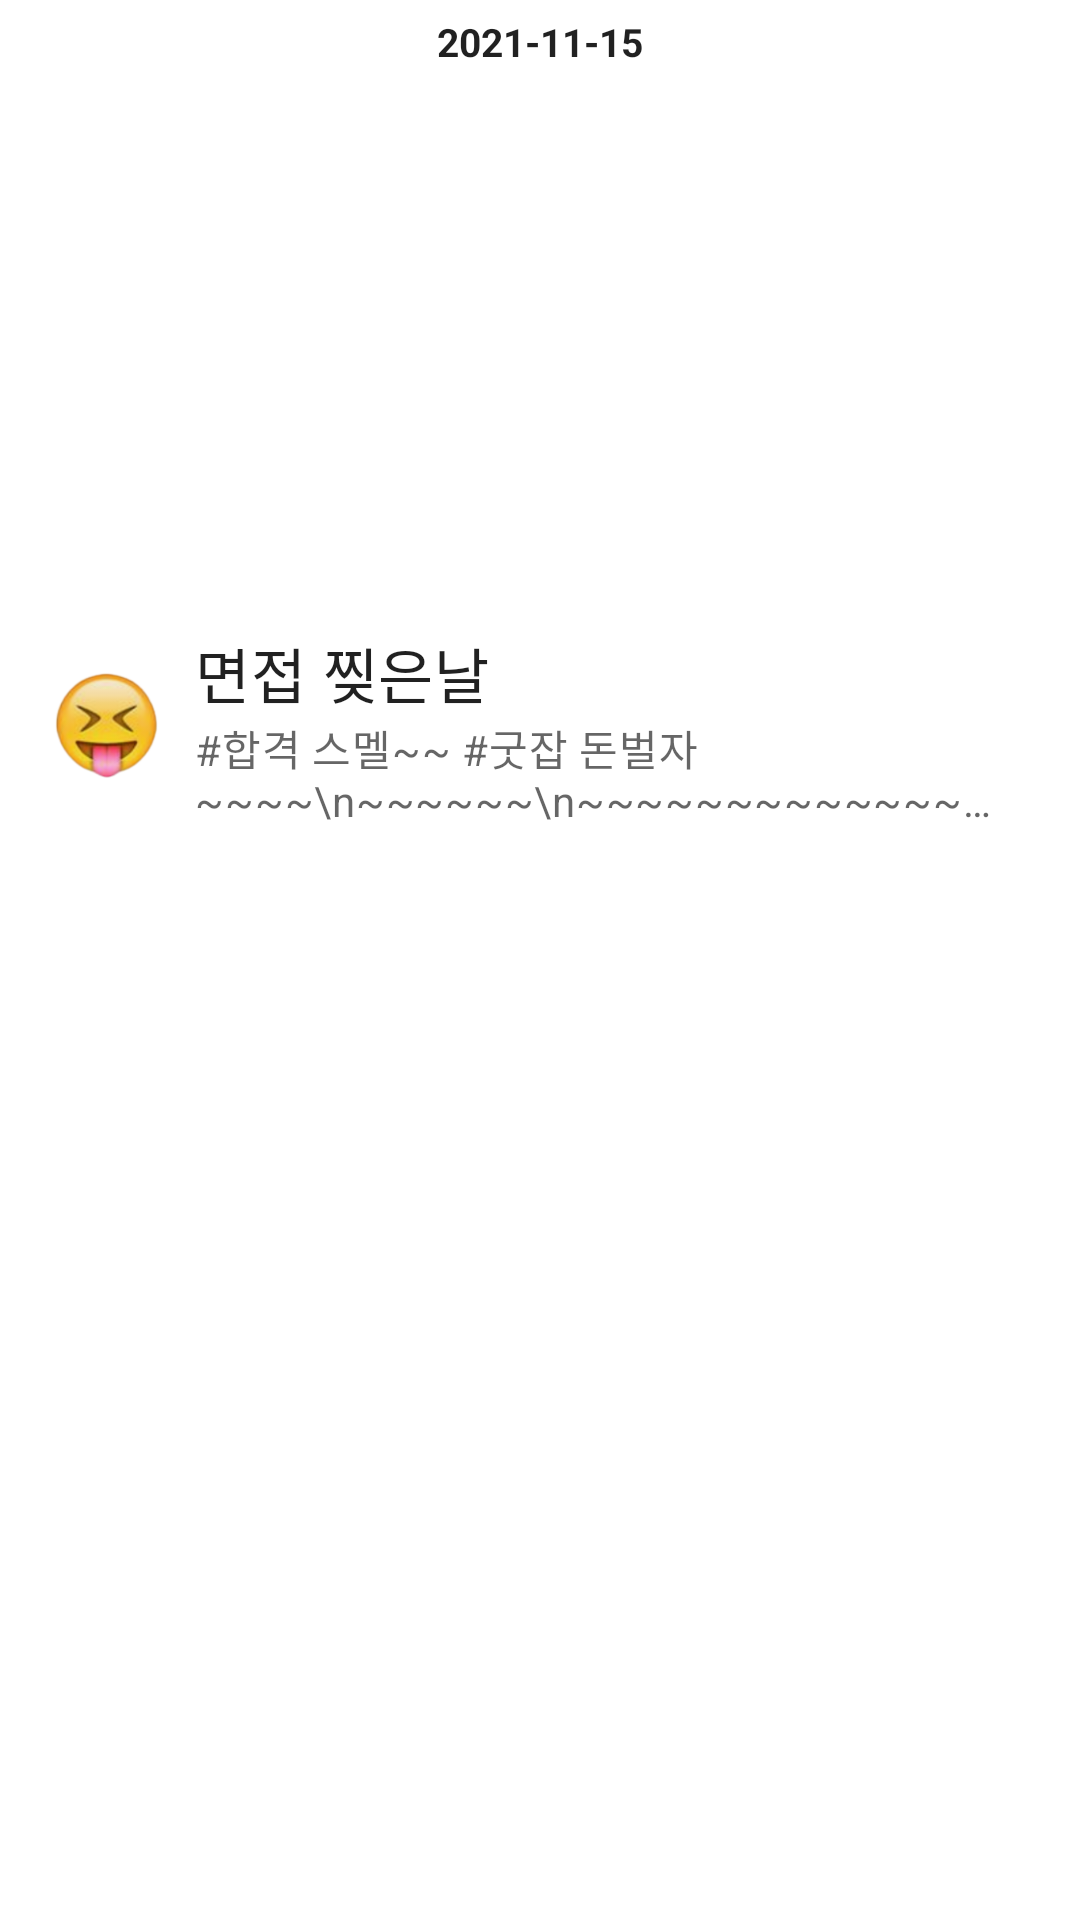

Locate icon controls on the screen. Image size 1080w x 1920h, boxes as Rect(x1, y1, x2, y2).
pleasure: Rect(56, 673, 157, 778)
